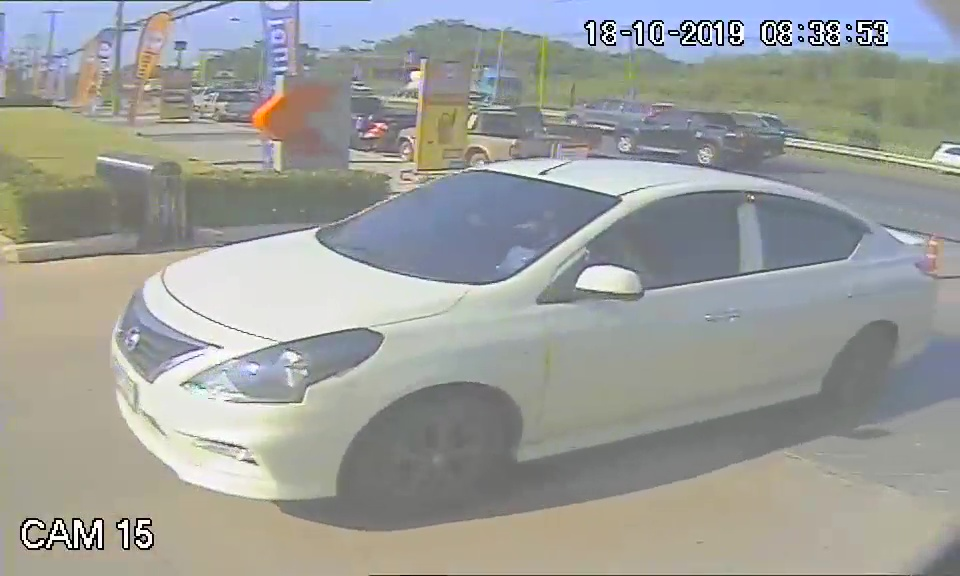sedan: (104, 151, 943, 507)
